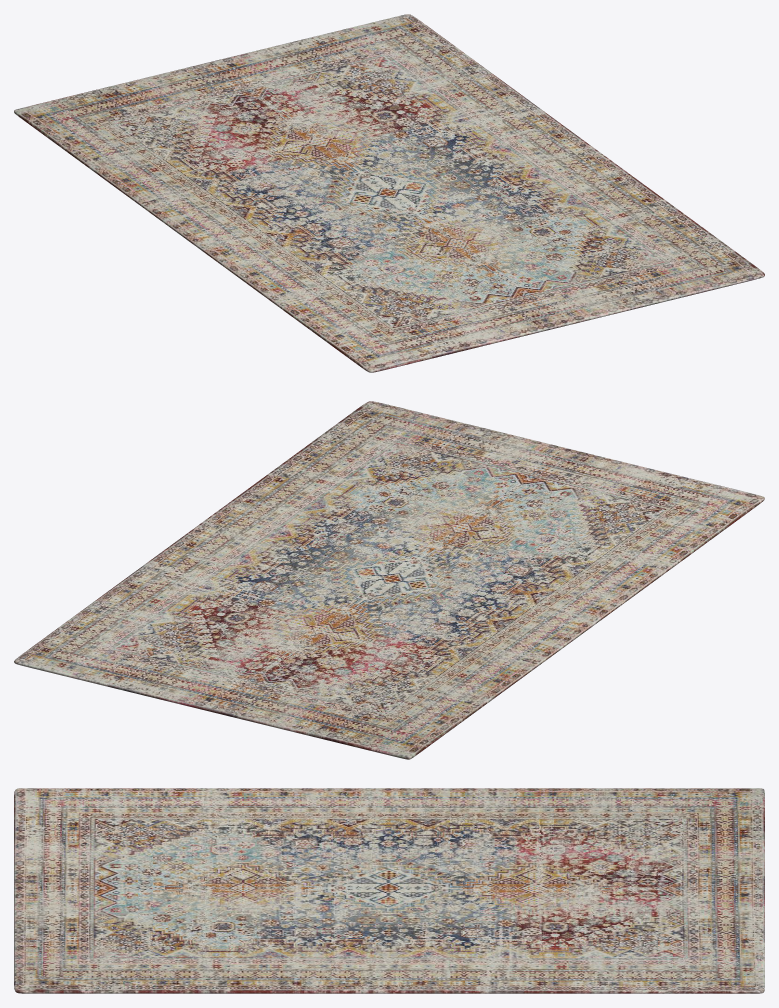
The model's file is Distressed traditional old rug.fbx.
3 renders of one model, top to bottom at view 1: azimuth 30°, elevation 25°; view 2: azimuth 150°, elevation 25°; view 3: azimuth 270°, elevation 25°, orthographic. The views are drawn at different scales.
Visible parts, largest first — view 1: Distressed traditional old rug; view 2: Distressed traditional old rug; view 3: Distressed traditional old rug.
Boxes of the visible parts, bbox=[...] form: Distressed traditional old rug: bbox=[14, 14, 764, 372]; Distressed traditional old rug: bbox=[14, 401, 764, 759]; Distressed traditional old rug: bbox=[14, 788, 764, 993].
Bounding box in the file's own units: 180 × 1.5 × 280.
1 material, 1 textured.
